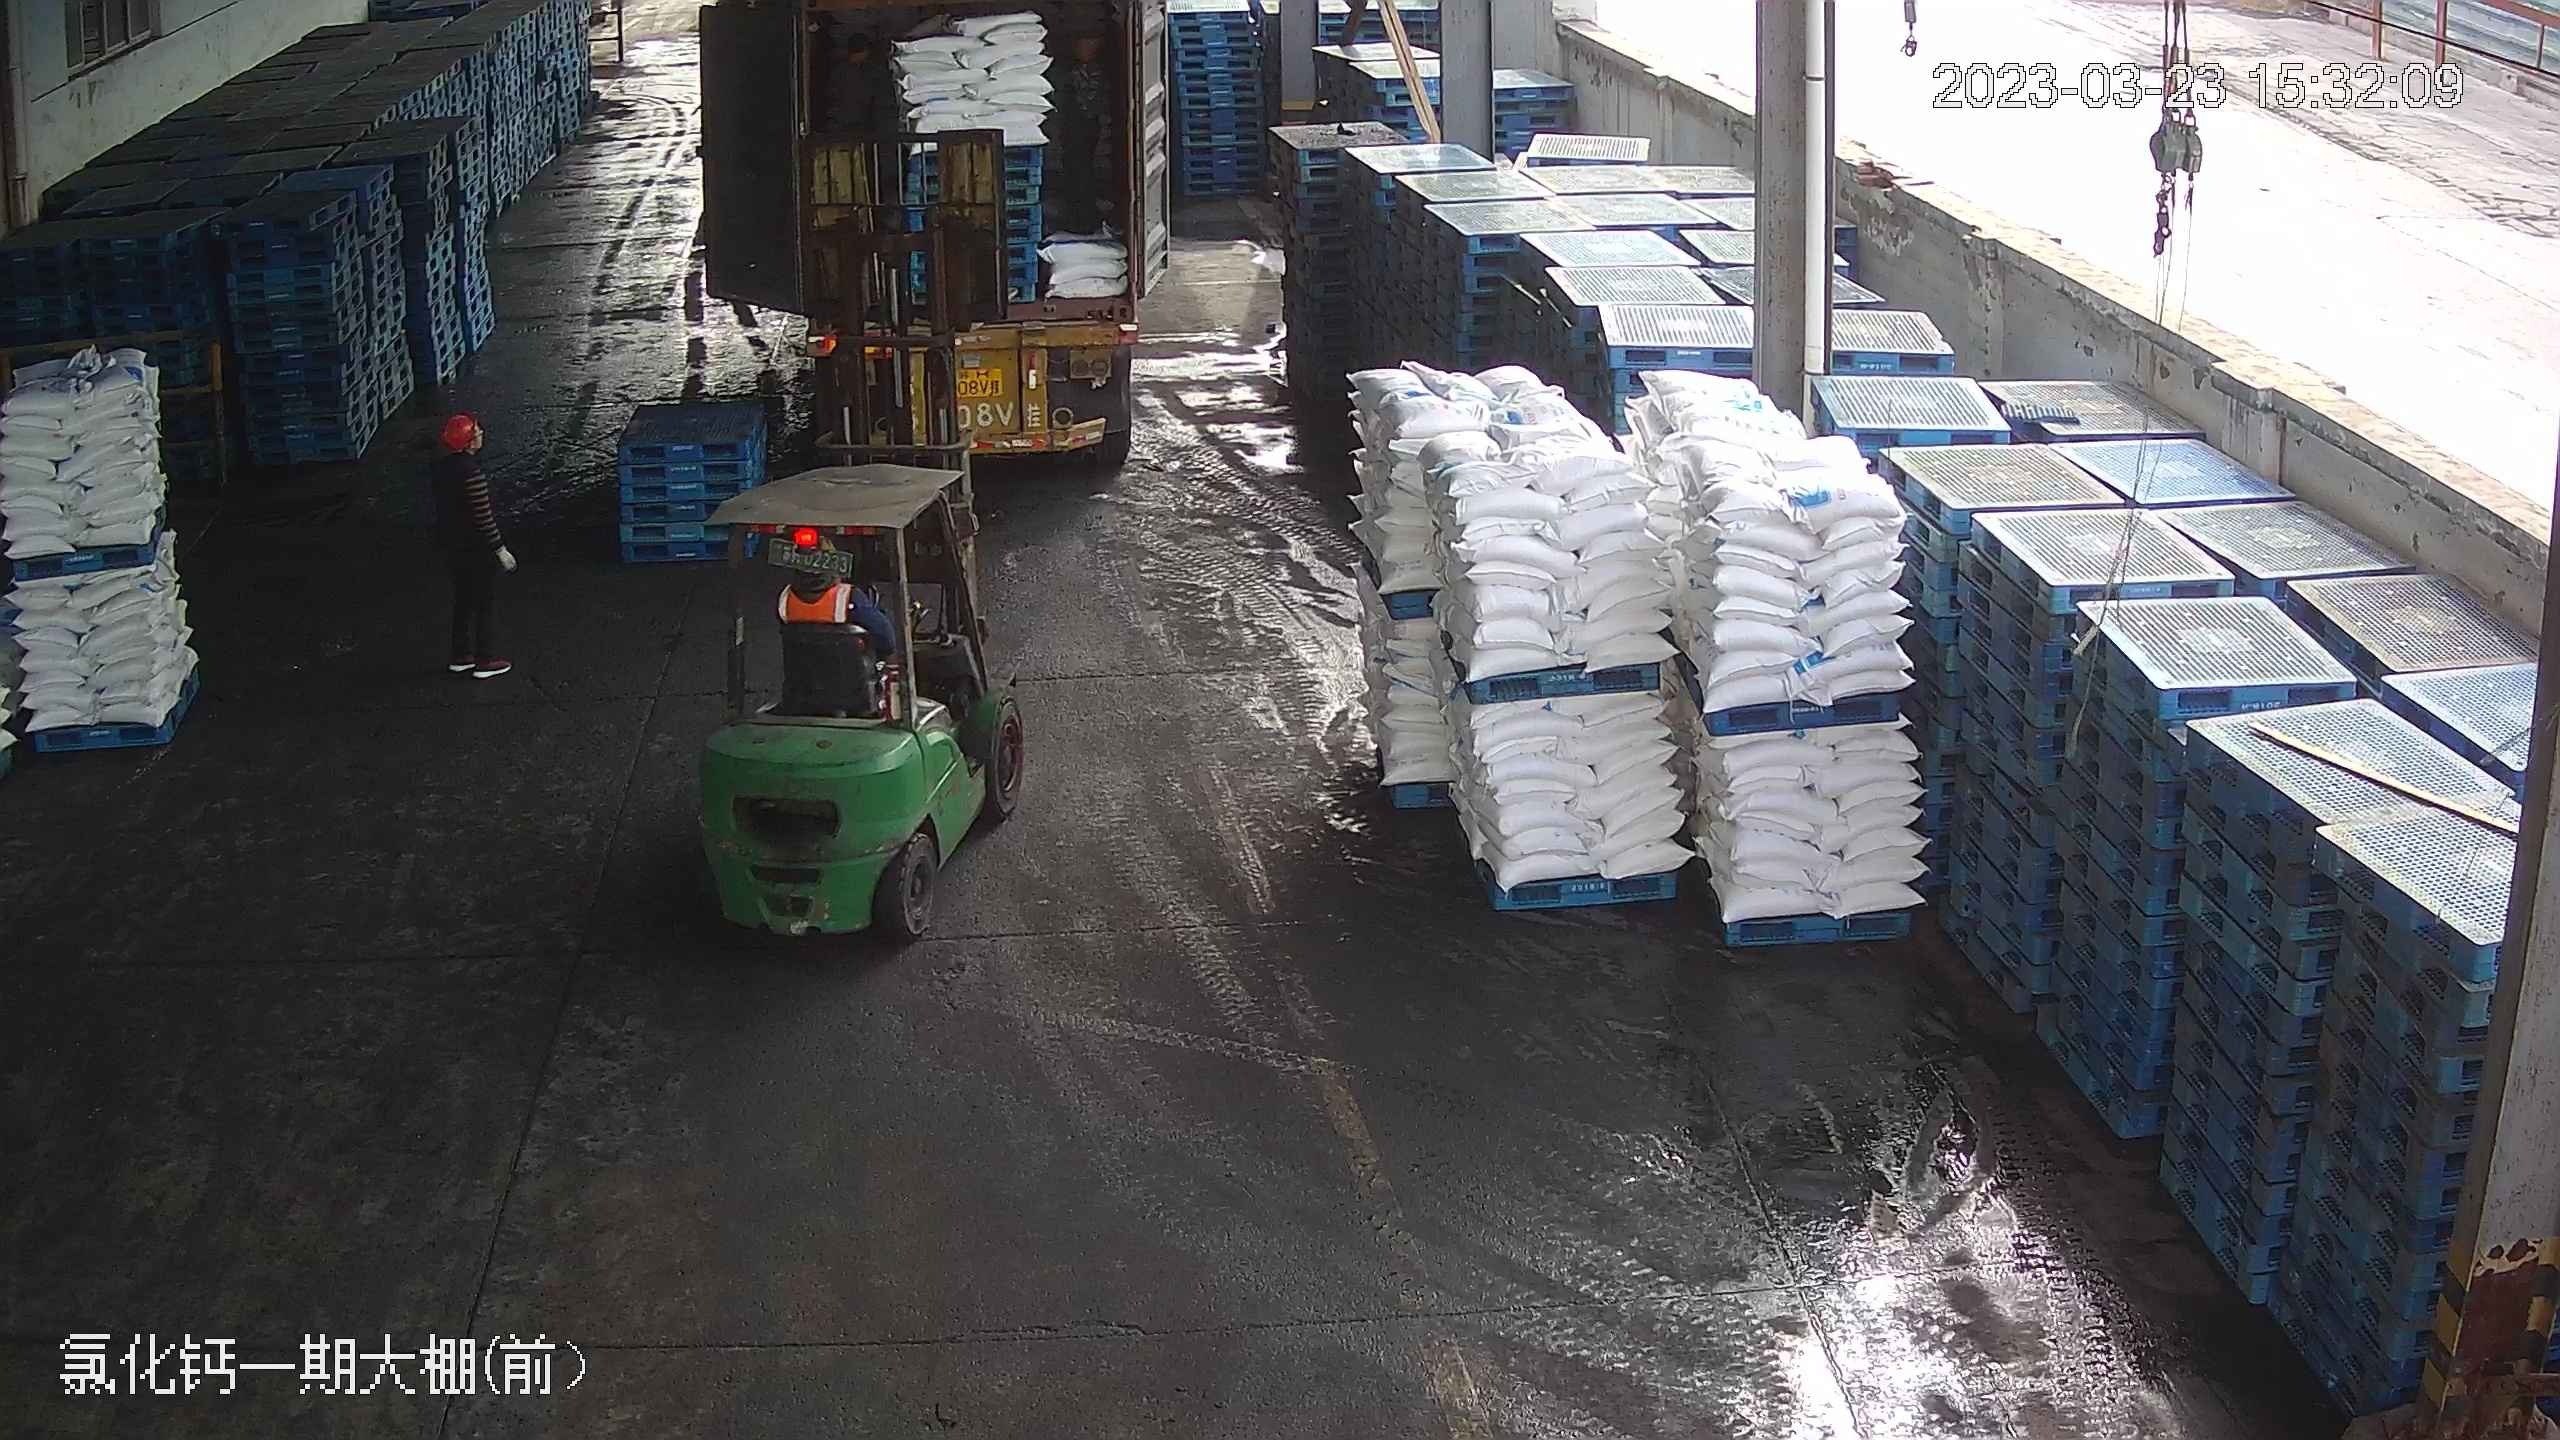head: (431, 410, 493, 496), (827, 31, 881, 104), (1060, 31, 1108, 111)
helmet: (437, 410, 481, 444)
people: (427, 404, 518, 684)
truck: (785, 1, 1173, 470)
